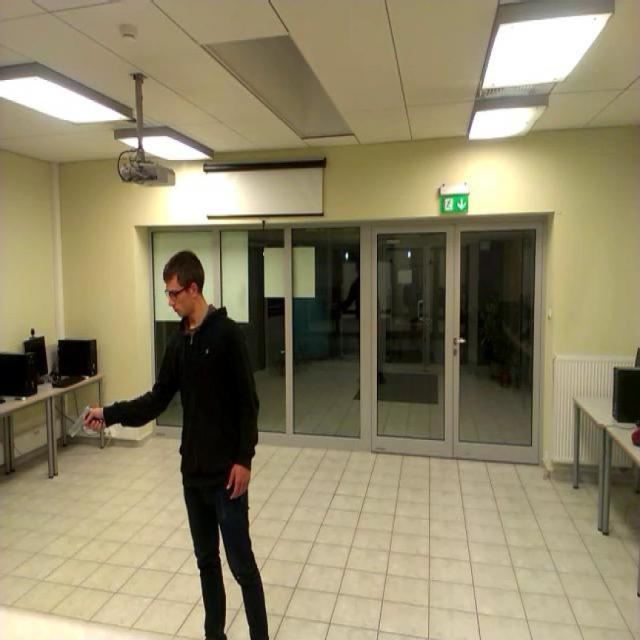pistol: (67, 404, 102, 436)
